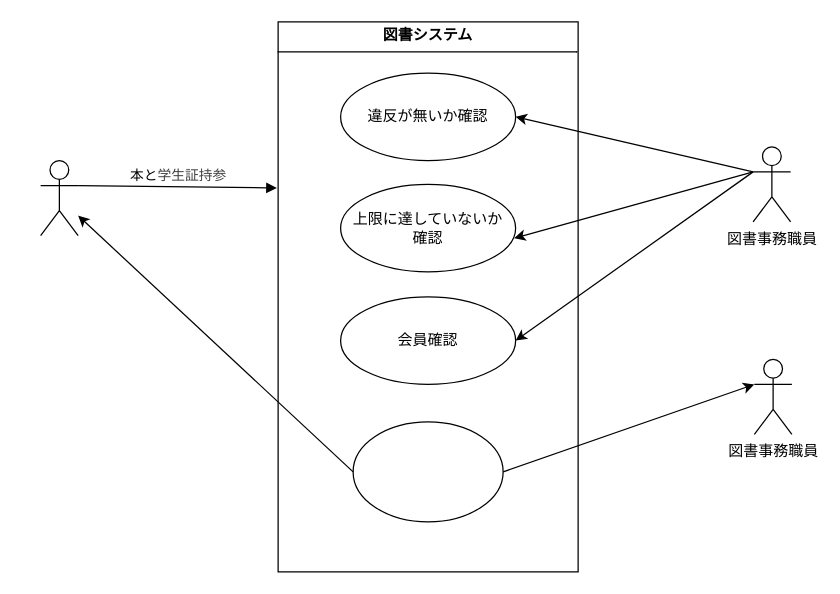
The diagram is 840 pixels wide and 594 high, and some of its shapes have lost their labels. Here are the shapes that lost their labels. From the top down, the centre of each, then its label:
the point at 58,197: 学生／職員
the point at 427,471: 返却されたらメールで通知
